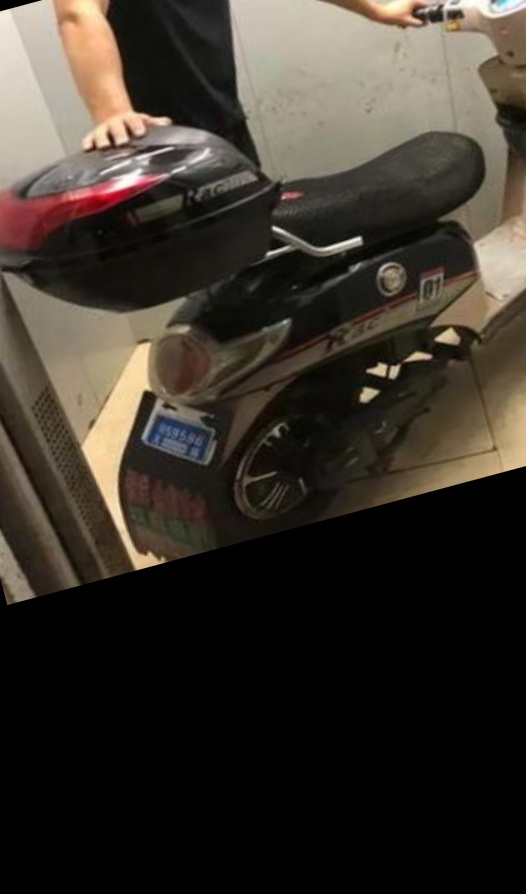ebike: (4, 5, 522, 563)
person: (76, 0, 441, 169)
